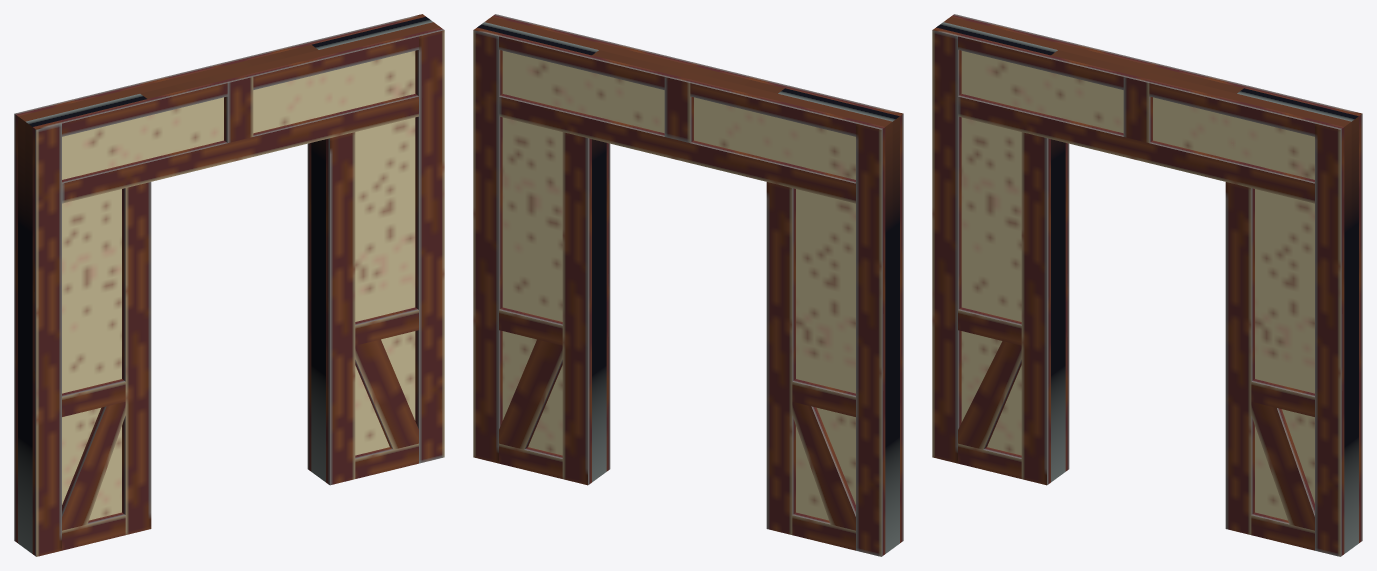
File: Wall.fbx
3 views of the same model, side by side, from view 1: azimuth 30°, elevation 25°; view 2: azimuth 150°, elevation 25°; view 3: azimuth 330°, elevation 25° (orthographic).
Visible parts, largest first — view 1: WoodenPlankV_Base03.004; view 2: WoodenPlankV_Base03.004; view 3: WoodenPlankV_Base03.004.
Part boxes in pixels (x1,y1,x2,y2): WoodenPlankV_Base03.004: [14, 14, 444, 556]; WoodenPlankV_Base03.004: [473, 14, 903, 556]; WoodenPlankV_Base03.004: [932, 14, 1362, 556].
Bounding box in the file's own units: 4 × 0.375 × 4.
